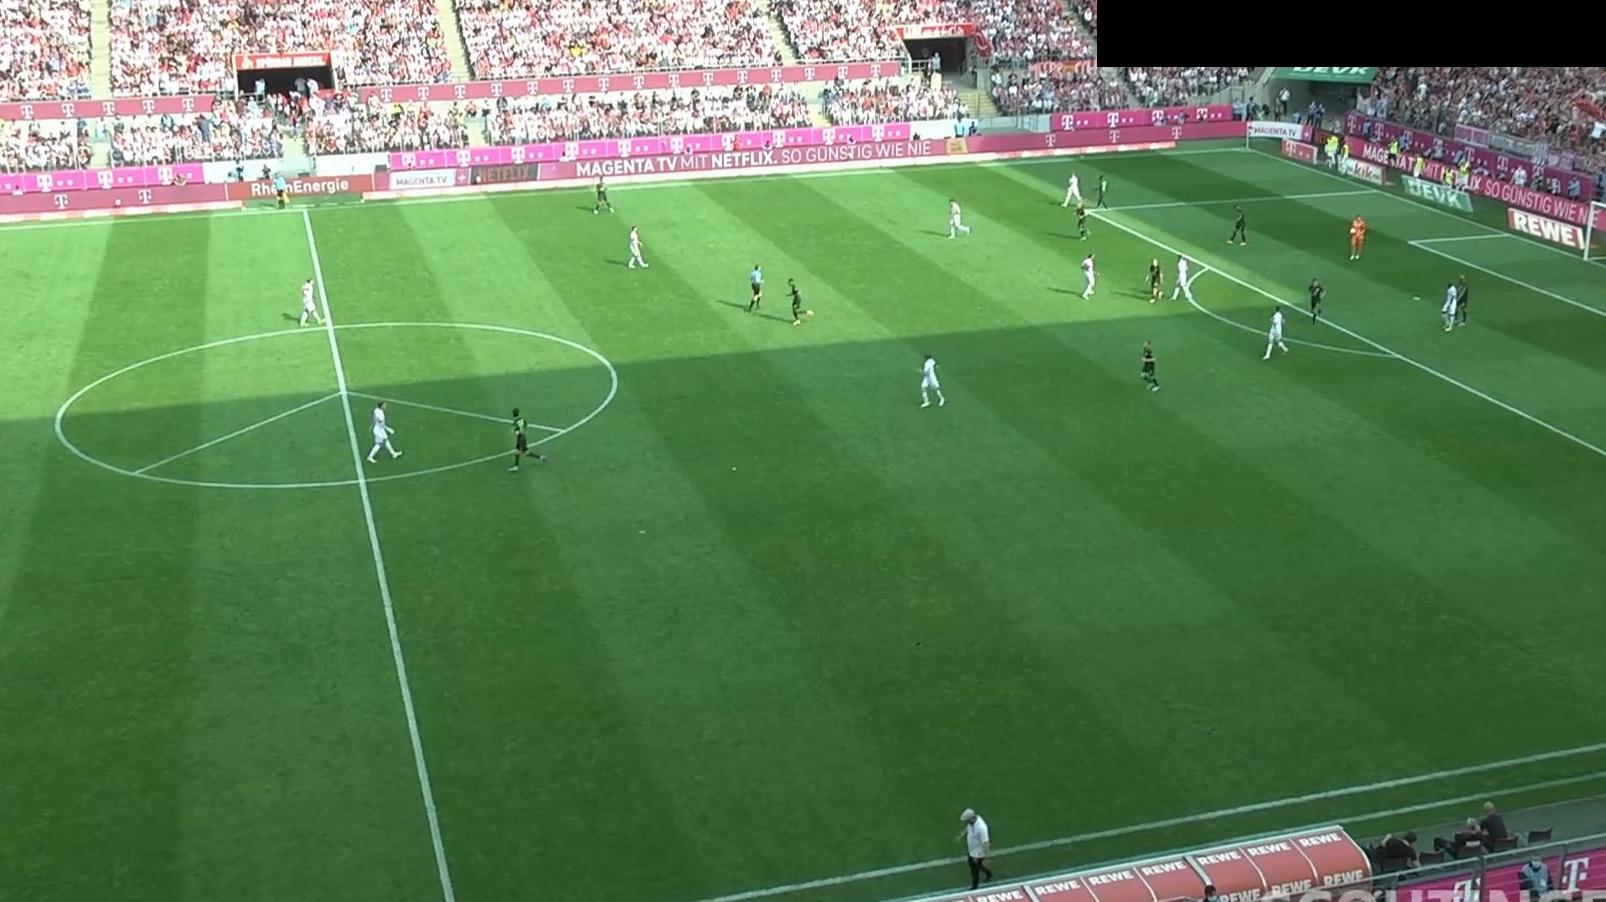ball: (1349, 227, 1357, 235)
